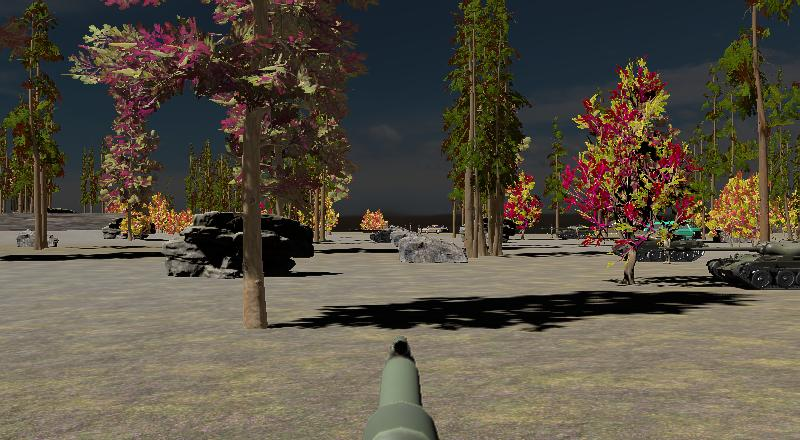Tank: (688, 236, 800, 291), (612, 229, 710, 264), (557, 224, 596, 240)
